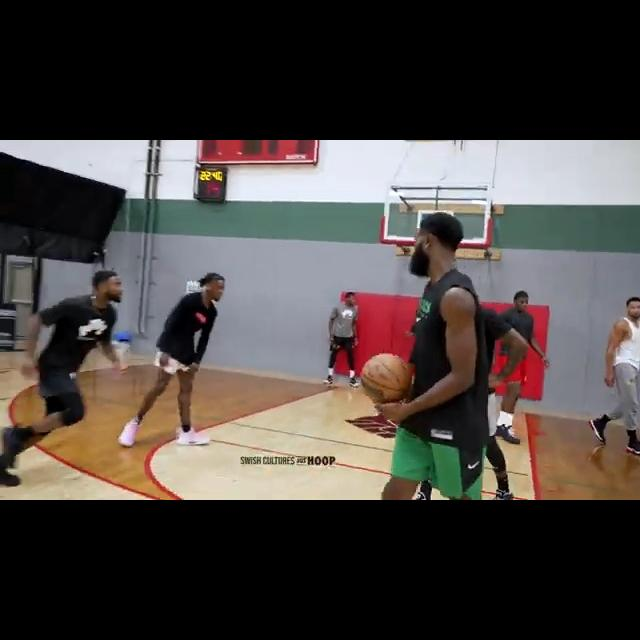basketball: (359, 353, 414, 406)
